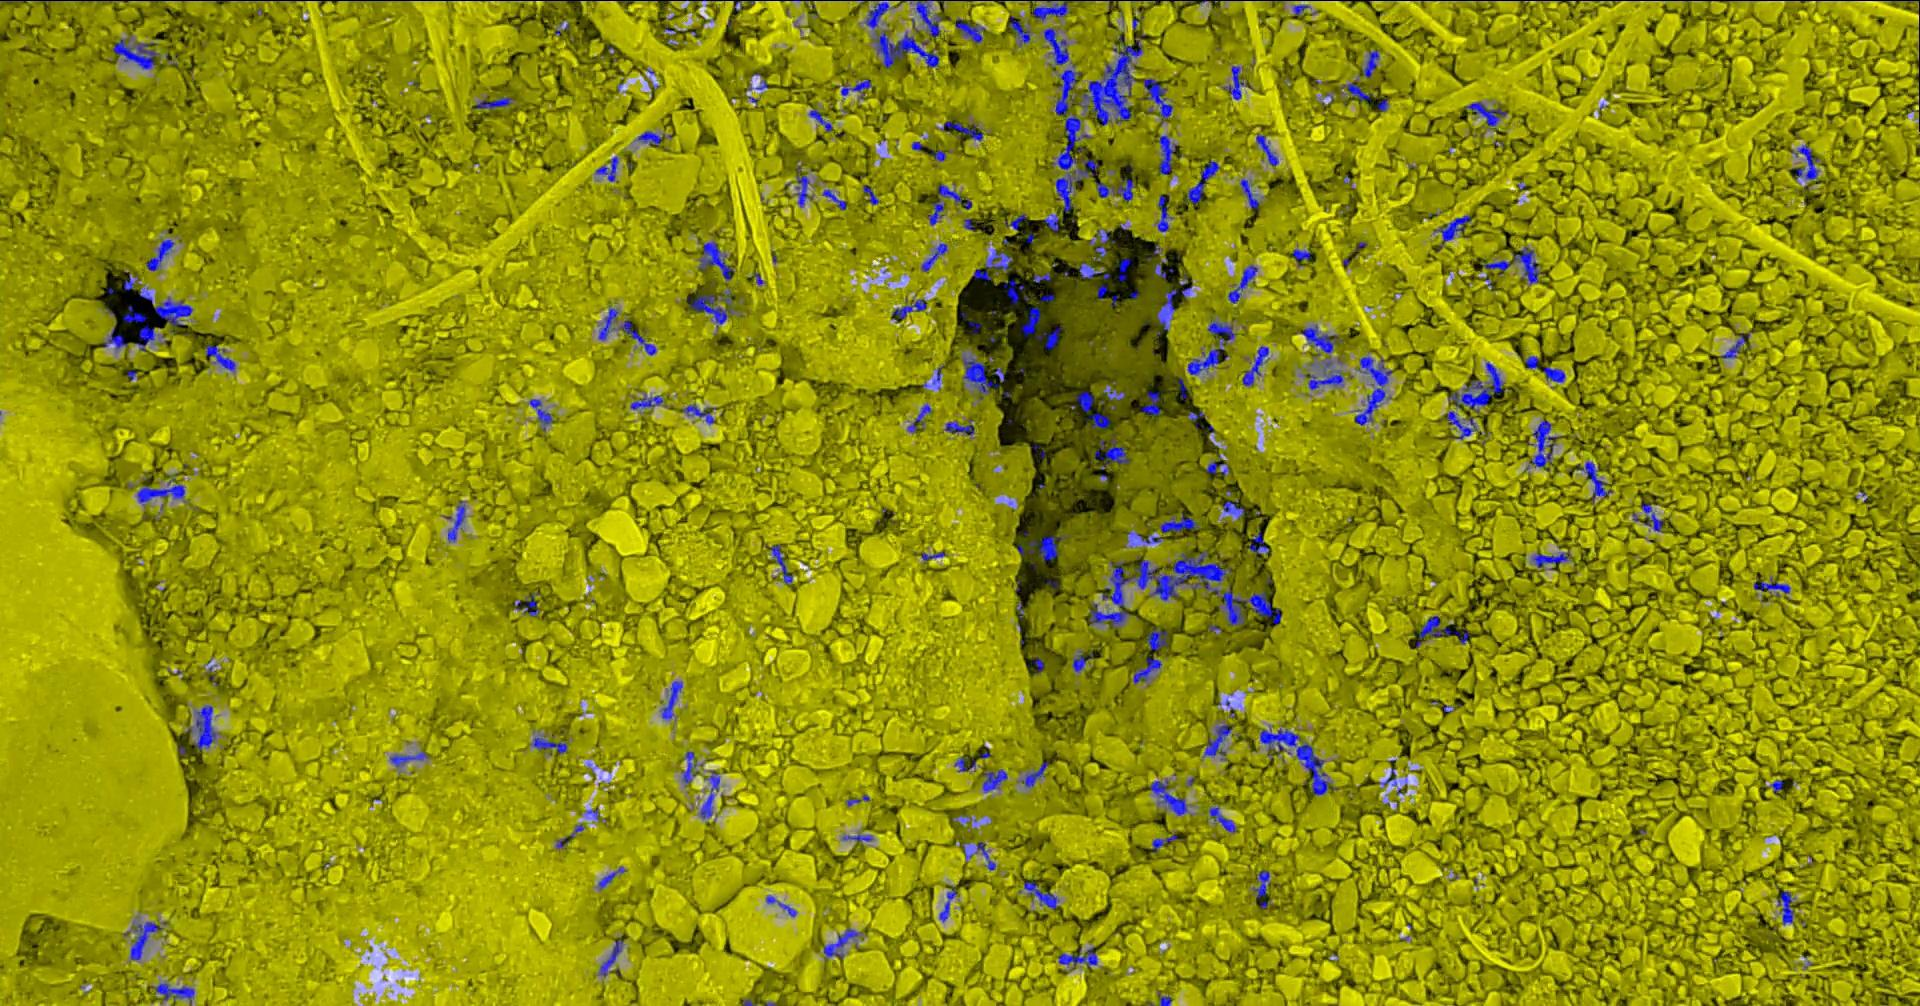ant: (1448, 361, 1503, 412), (1187, 319, 1236, 373), (872, 29, 938, 69), (1354, 356, 1390, 426), (1483, 246, 1542, 283), (1156, 273, 1191, 329), (687, 287, 735, 326), (1415, 615, 1469, 647), (1528, 419, 1561, 471), (122, 305, 159, 351), (1183, 160, 1219, 203), (112, 37, 159, 69), (963, 356, 997, 399), (136, 474, 184, 504), (1149, 777, 1187, 815), (1142, 77, 1172, 124), (1016, 535, 1069, 561), (1432, 215, 1470, 251), (1577, 461, 1611, 502), (697, 241, 733, 279), (1297, 324, 1342, 353), (618, 319, 655, 354), (971, 249, 1012, 281), (130, 921, 163, 959), (1095, 433, 1129, 469), (1076, 391, 1109, 428), (1227, 264, 1257, 304), (1303, 359, 1343, 389), (823, 927, 860, 959), (154, 296, 192, 326), (1241, 345, 1269, 386), (1023, 878, 1059, 909), (1203, 724, 1232, 760), (1465, 102, 1507, 126), (698, 770, 719, 819), (916, 0, 943, 36), (1790, 144, 1818, 179), (193, 705, 215, 749), (152, 982, 194, 1005), (1043, 27, 1068, 64), (770, 544, 792, 584), (145, 239, 174, 271), (937, 183, 971, 210), (1031, 0, 1073, 22), (1058, 946, 1097, 969), (443, 500, 465, 541), (1096, 177, 1134, 199), (599, 937, 622, 976), (890, 297, 926, 321), (954, 17, 985, 43), (1016, 761, 1048, 788), (1752, 577, 1789, 600), (938, 121, 982, 140), (1446, 412, 1476, 439), (1721, 332, 1751, 358), (662, 680, 682, 719), (865, 0, 893, 28), (1131, 657, 1161, 683), (204, 344, 235, 370), (1159, 512, 1197, 532), (1255, 133, 1277, 166), (530, 398, 552, 431), (1158, 135, 1177, 174), (921, 243, 947, 271), (905, 403, 931, 432), (837, 77, 871, 99), (794, 165, 811, 206), (598, 305, 618, 340), (1208, 807, 1236, 832), (1639, 503, 1663, 532), (555, 823, 584, 847), (1223, 65, 1243, 99), (681, 751, 702, 782), (764, 894, 796, 916), (1252, 870, 1270, 908), (681, 404, 714, 424), (531, 735, 568, 753), (938, 885, 956, 922), (597, 866, 625, 889), (1338, 83, 1371, 102), (389, 751, 427, 767), (1777, 890, 1796, 923), (1093, 230, 1114, 260), (1020, 306, 1040, 337), (102, 326, 127, 351), (513, 592, 538, 616), (982, 768, 1007, 793), (1239, 178, 1258, 210), (1357, 50, 1379, 77), (1010, 17, 1030, 46), (943, 419, 974, 438), (1531, 551, 1570, 567), (977, 841, 996, 870), (596, 156, 618, 180), (1002, 278, 1023, 304), (630, 392, 663, 409), (1156, 196, 1171, 231), (1078, 262, 1110, 278), (808, 109, 832, 131), (1139, 391, 1161, 415), (637, 130, 670, 145), (1145, 627, 1167, 650), (822, 189, 846, 210), (1043, 325, 1063, 349), (1205, 453, 1229, 474), (1150, 835, 1177, 852), (475, 97, 512, 109), (1070, 650, 1093, 671), (1222, 499, 1244, 518), (927, 199, 943, 225), (1153, 258, 1173, 278), (1248, 532, 1269, 553), (1291, 245, 1310, 265), (1542, 366, 1564, 382), (1128, 531, 1161, 542), (1004, 213, 1026, 230), (1117, 257, 1131, 281), (954, 756, 975, 771), (1378, 767, 1396, 785), (842, 833, 872, 843), (862, 185, 877, 205), (1101, 387, 1124, 400), (846, 794, 869, 807), (1043, 213, 1058, 231), (1026, 657, 1044, 672), (123, 273, 138, 290), (1187, 412, 1203, 427), (931, 149, 949, 161), (921, 551, 945, 560), (1524, 354, 1538, 368), (1293, 4, 1309, 15), (1032, 272, 1050, 282), (138, 287, 151, 301), (1770, 779, 1783, 793), (1177, 379, 1186, 398), (963, 218, 977, 230), (1096, 285, 1107, 298), (1377, 97, 1387, 111), (1158, 995, 1171, 1005)
